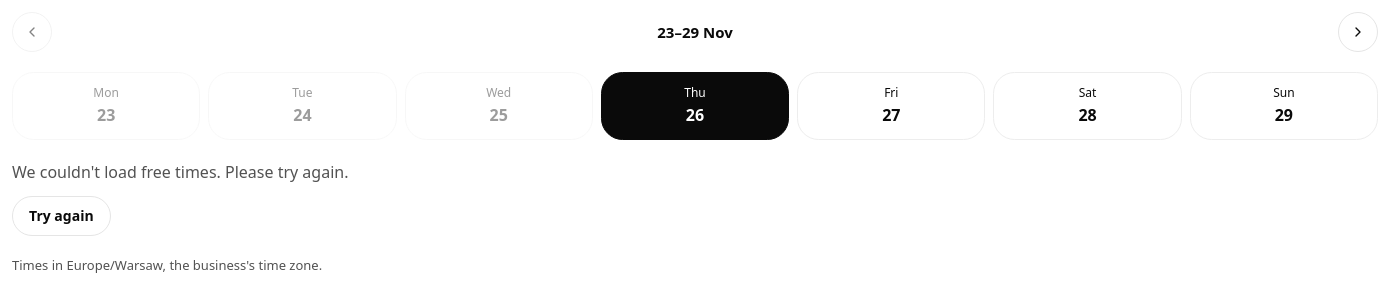
Test: SlotPicker › offers a retry when free times could not be loaded
Click the button "Try again" at [61, 216], box x1=12 y1=196 x2=111 y2=236
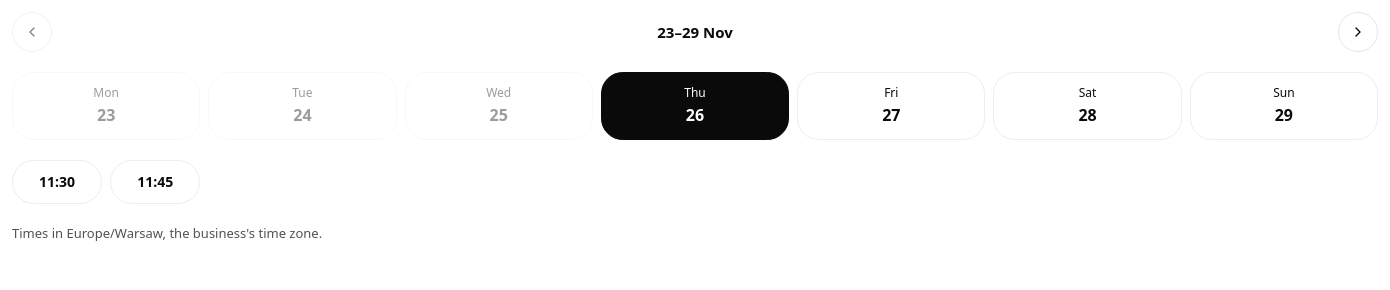
Expected: the button "11:30" is shown, x1=12 y1=160 x2=102 y2=204
